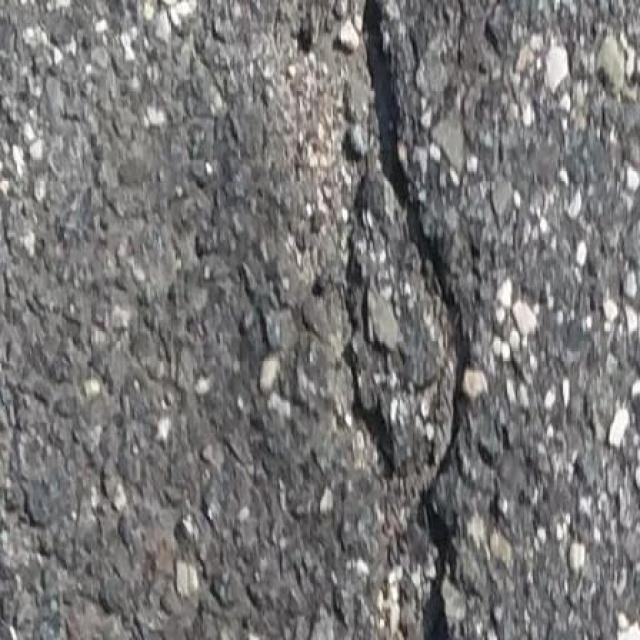Crack: (340, 2, 472, 639)
